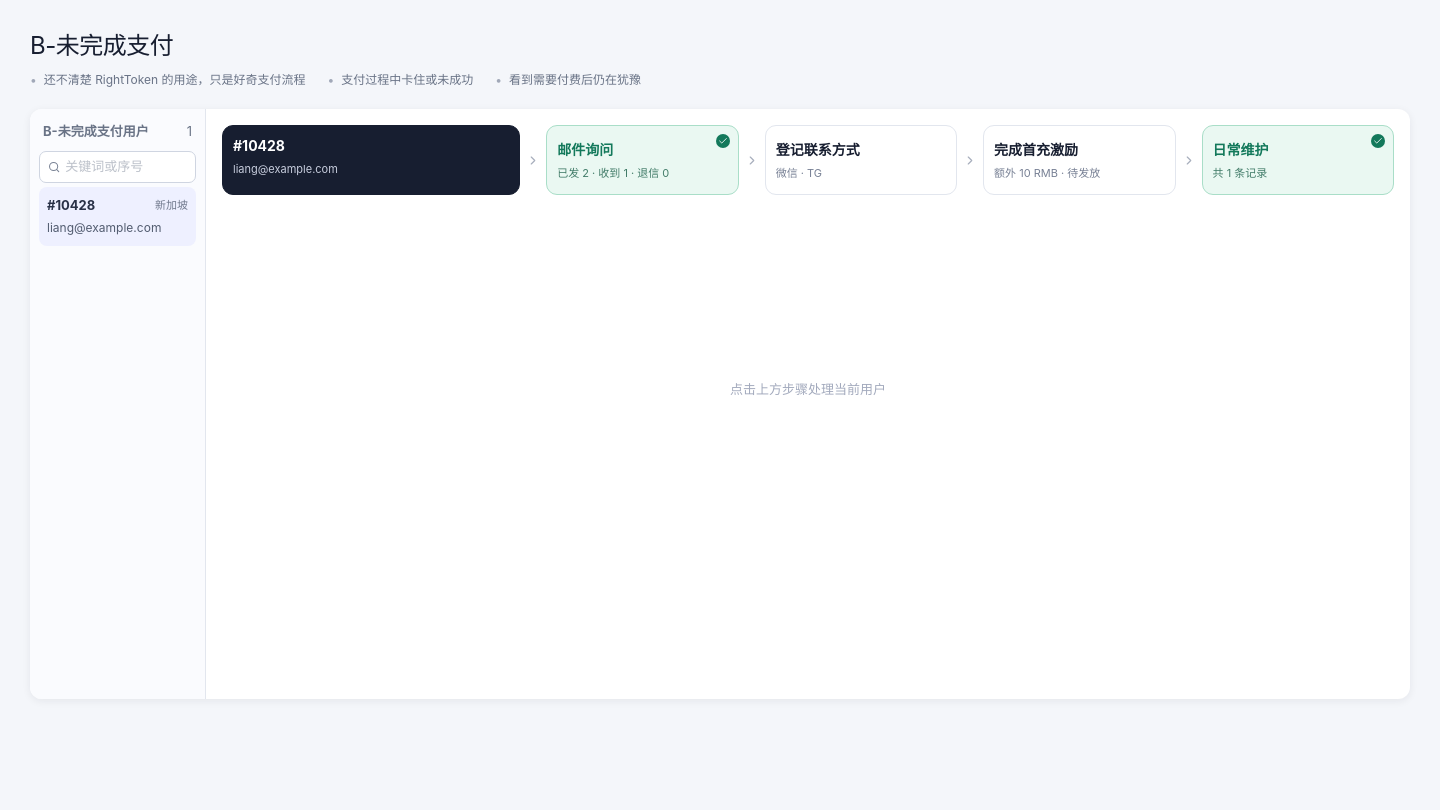
Test: BGroupWorkspace › opens contact and maintenance inline
What coordinates should you click on to do the following:
click the button "登记联系方式 微信 · TG"
I would click on:
 (861, 160)
Its box is [765, 125, 957, 195].
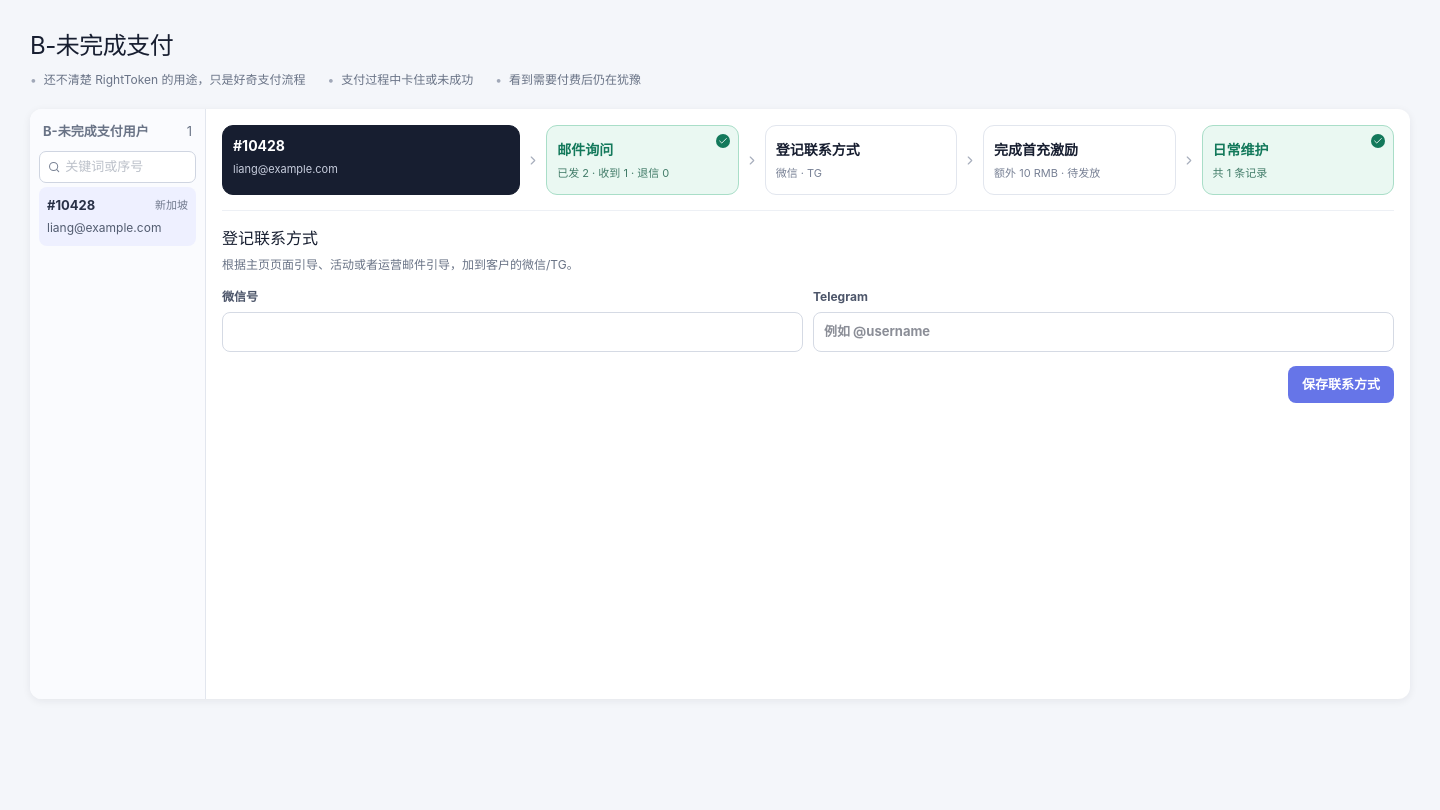
Now the field labelled "微信号" is shown, box [222, 312, 803, 352]
Now the field labelled "Telegram" is shown, box [813, 312, 1394, 352]
Now the text "根据主页页面引导、活动或者运营邮件引导，加到客户的微信/TG。" is shown, box [222, 257, 579, 272]
What coordinates should you click on to do the following:
click the button "日常维护 共 1 条记录"
I would click on:
 (1298, 160)
Its box is [1202, 125, 1394, 195].
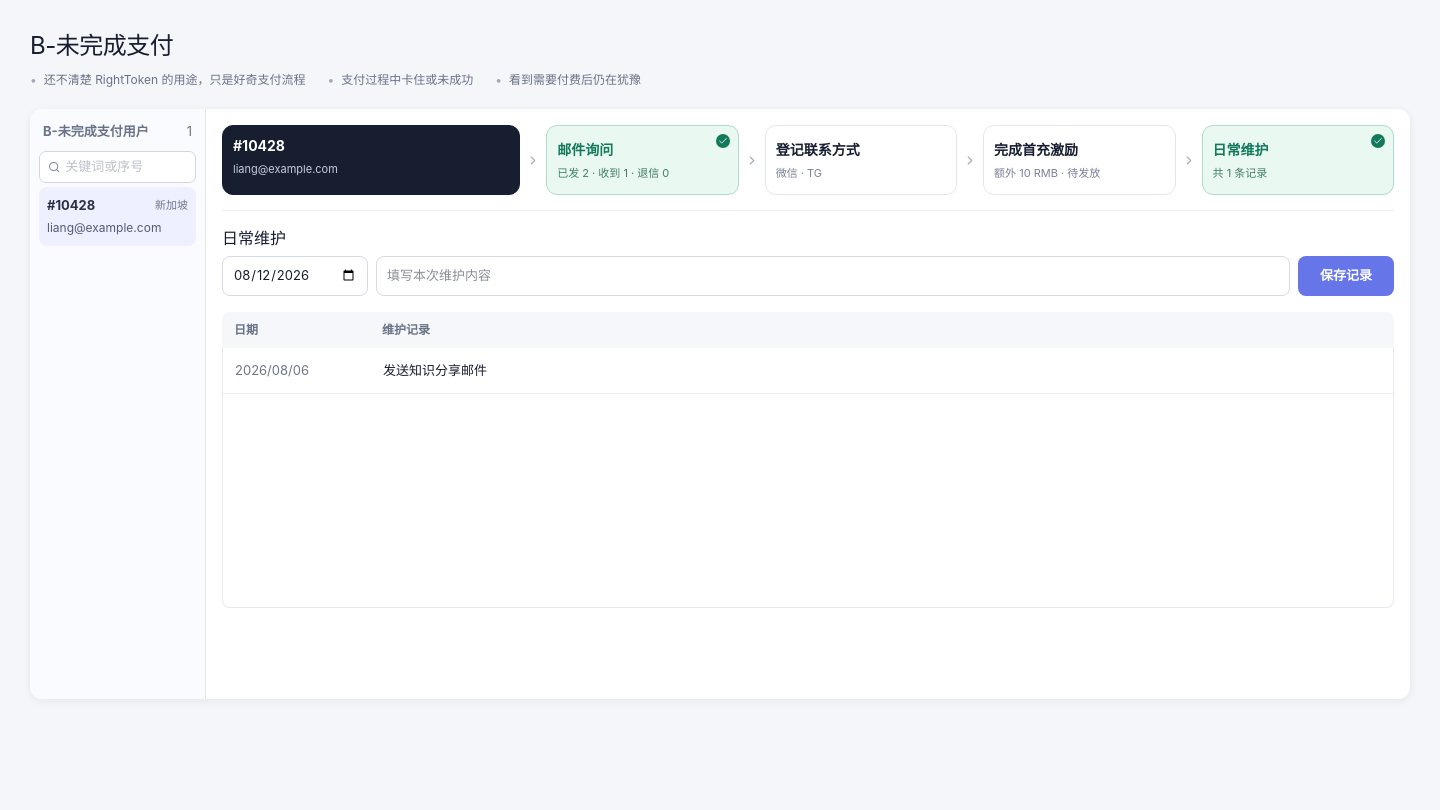
Now the field labelled "维护内容" is shown, box [376, 256, 1290, 296]
Now the label labelled "微信号" is gone
